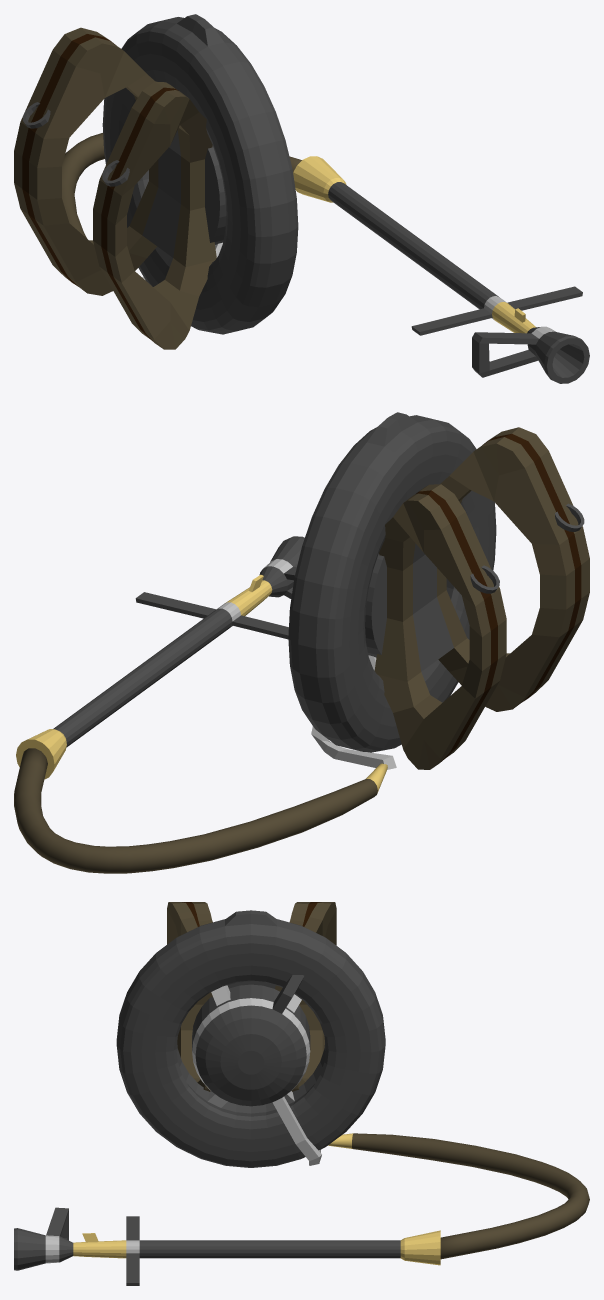
The model's file is WexFlamerthrower.fbx.
The picture shows the model from 3 angles, top to bottom: view 1: azimuth 30°, elevation 25°; view 2: azimuth 150°, elevation 25°; view 3: azimuth 270°, elevation 25°; orthographic projection. The views are drawn at different scales.
Parts seen in each view (by area): view 1: Tank, Nozzle, BézierCurve; view 2: Tank, BézierCurve, Nozzle; view 3: Tank, Nozzle, BézierCurve.
Boxes of the visible parts, left/top/right/bottom form: Tank: left=14, top=14, right=298, bottom=349; Nozzle: left=293, top=156, right=589, bottom=383; BézierCurve: left=62, top=133, right=301, bottom=238; Tank: left=288, top=412, right=589, bottom=769; BézierCurve: left=14, top=748, right=387, bottom=873; Nozzle: left=16, top=536, right=304, bottom=779; Tank: left=116, top=902, right=385, bottom=1167; Nozzle: left=14, top=1207, right=440, bottom=1285; BézierCurve: left=328, top=1133, right=589, bottom=1259.
Size of the model in its own units: 3005 by 2036 by 4023.
